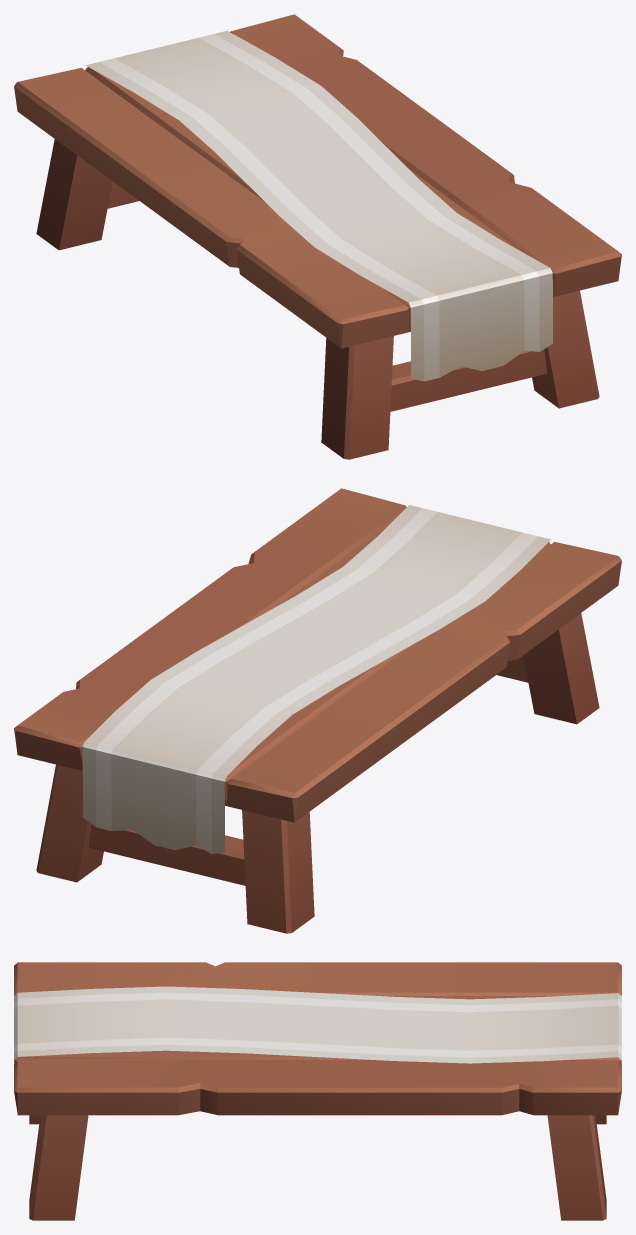
The model's file is table_long_tablecloth.gltf.
3 views of the same model, one above another, from view 1: azimuth 30°, elevation 25°; view 2: azimuth 150°, elevation 25°; view 3: azimuth 270°, elevation 25° (orthographic). The views are drawn at different scales.
Parts seen in each view (by area): view 1: table_long_tablecloth; view 2: table_long_tablecloth; view 3: table_long_tablecloth.
Boxes of the visible parts, <box> form: table_long_tablecloth: <box>14,14,621,459</box>; table_long_tablecloth: <box>14,488,621,933</box>; table_long_tablecloth: <box>14,962,621,1220</box>.
Size of the model in its own units: 2 by 1 by 4.
Materials: 1 (1 with a texture image).
